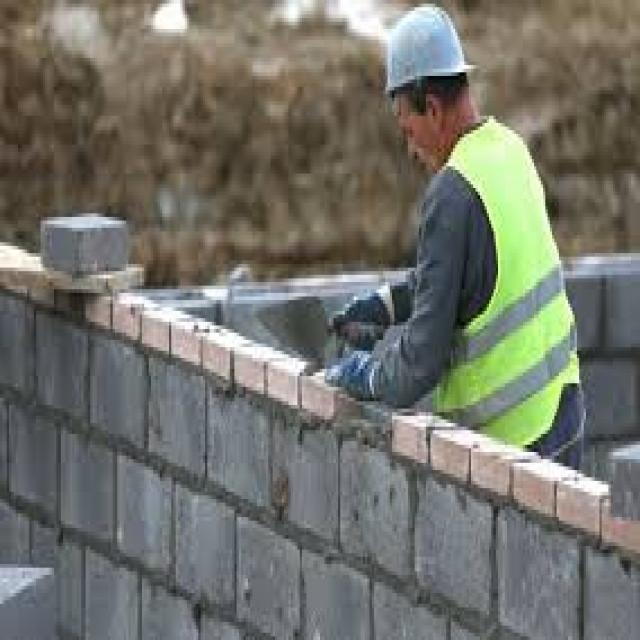Reflective-Jacket: (417, 120, 588, 448)
Safety-Helmet: (370, 0, 478, 105)
